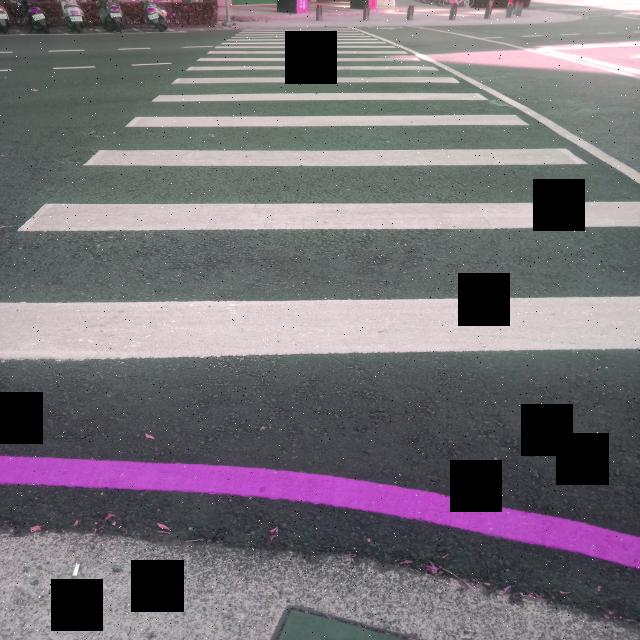zebra_crossing: (0, 29, 640, 365)
